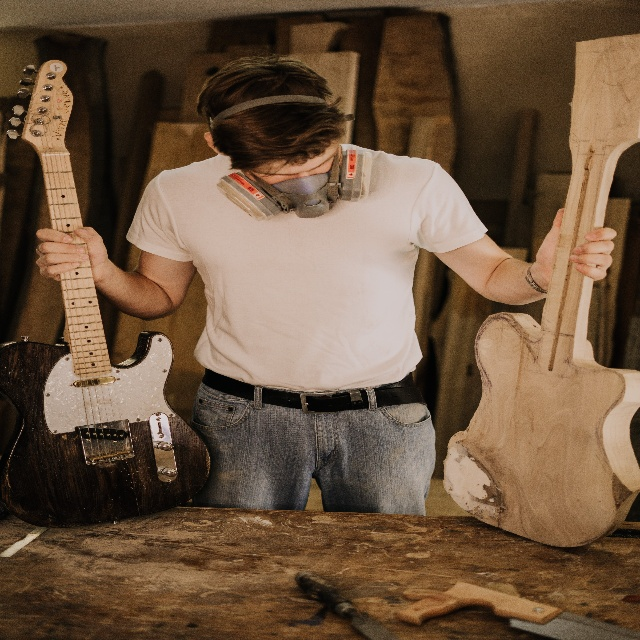Sin_guantes: (538, 207, 617, 282), (35, 220, 108, 292)
